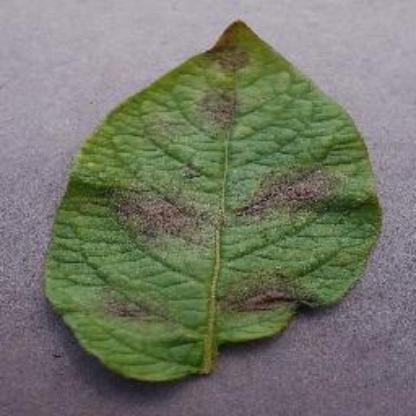Late-Blight: (38, 16, 388, 388)
